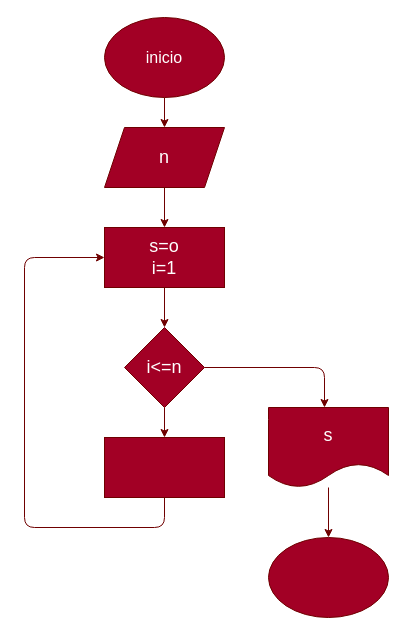
Image size: 406x635. Some labels were removed from this diagram. Here are the shapes that lost their labels. From the top down, the centre of each, then its label:
pixel 164 467: s=s+i i=i+1
pixel 328 577: fin
